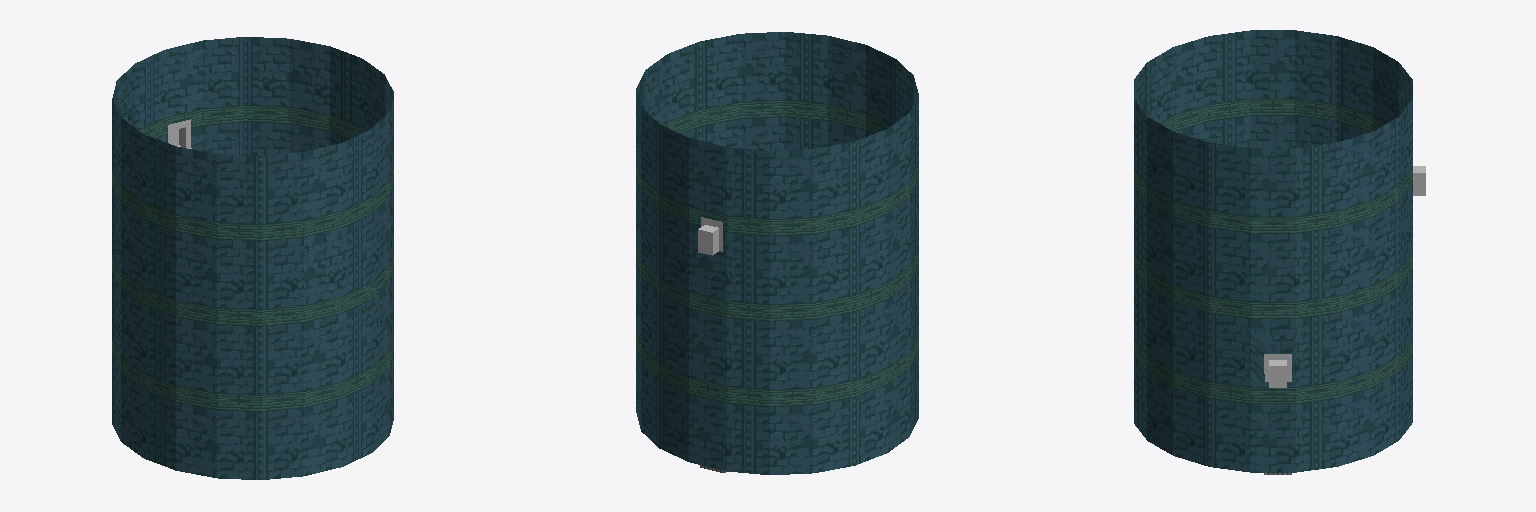
The picture shows the model from 3 angles: view 1: azimuth 30°, elevation 25°; view 2: azimuth 150°, elevation 25°; view 3: azimuth 270°, elevation 25°; orthographic projection.
Visible parts, largest first — view 1: polygon0, polygon1, polygon2; view 2: polygon0, polygon1, polygon2; view 3: polygon0, polygon1, polygon2.
Boxes of the visible parts, x1=… form: polygon0: x1=112, y1=37, x2=393, y2=479; polygon1: x1=112, y1=105, x2=393, y2=411; polygon2: x1=168, y1=119, x2=190, y2=148; polygon0: x1=636, y1=32, x2=918, y2=474; polygon1: x1=636, y1=100, x2=918, y2=406; polygon2: x1=698, y1=217, x2=722, y2=255; polygon0: x1=1134, y1=30, x2=1412, y2=472; polygon1: x1=1134, y1=99, x2=1412, y2=403; polygon2: x1=1264, y1=166, x2=1425, y2=387.
Size of the model in its own units: 3.9 by 4.79 by 3.89.
13 materials, 6 textured.